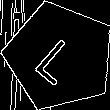L_NE: (31, 27, 88, 86)
